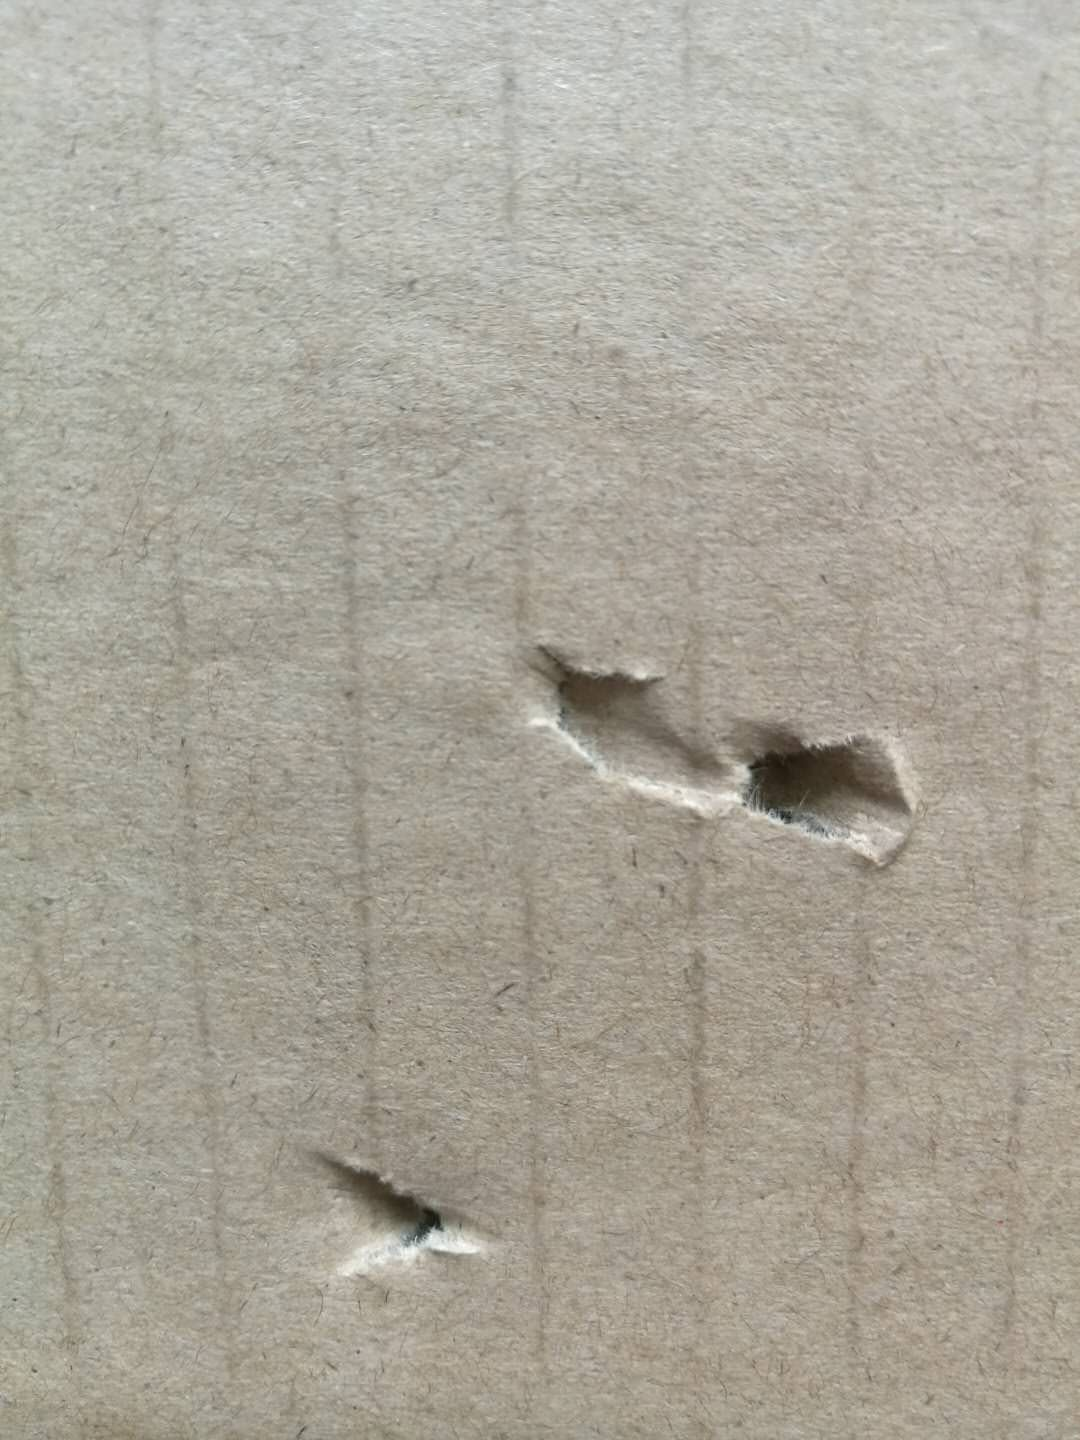defect: (486, 581, 968, 927), (280, 1110, 531, 1310)
